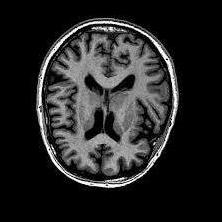Normal_Brain: (16, 1, 194, 222)
